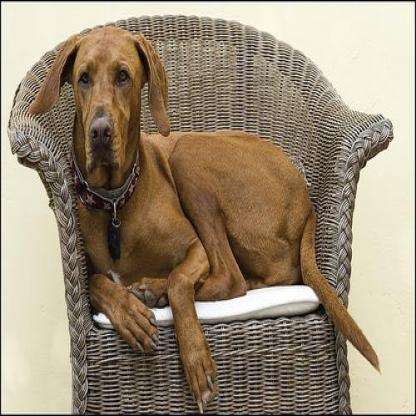vizsla: (28, 25, 379, 410)
